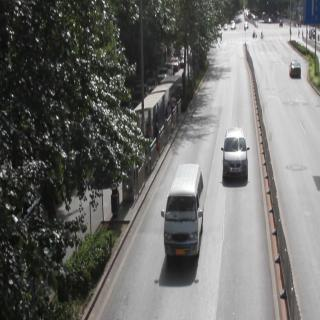Car: (163, 162, 204, 264), (220, 125, 251, 183), (286, 58, 304, 80), (223, 24, 228, 33), (243, 22, 249, 29), (230, 24, 235, 31)
